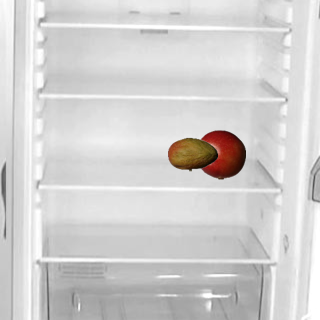Apple Braeburn: (195, 129, 245, 179)
Papaya: (167, 129, 217, 179)
